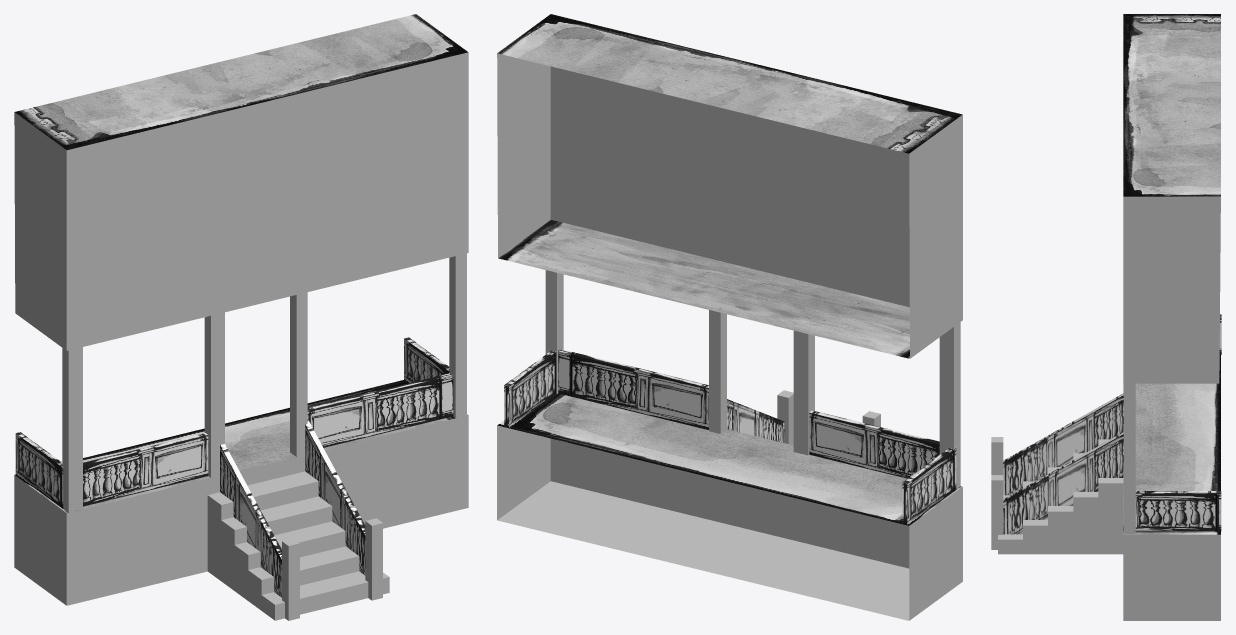
The model's file is Porch.fbx.
3 views of the same model, side by side, from view 1: azimuth 30°, elevation 25°; view 2: azimuth 150°, elevation 25°; view 3: azimuth 270°, elevation 25° (orthographic). The views are drawn at different scales.
Visible parts, largest first — view 1: Porch; view 2: Porch; view 3: Porch.
Part boxes in pixels (x1=…): Porch: x1=14, y1=14, x2=468, y2=620; Porch: x1=497, y1=14, x2=962, y2=620; Porch: x1=991, y1=14, x2=1221, y2=620.
Bounding box in the file's own units: 14 × 15.17 × 7.46.
